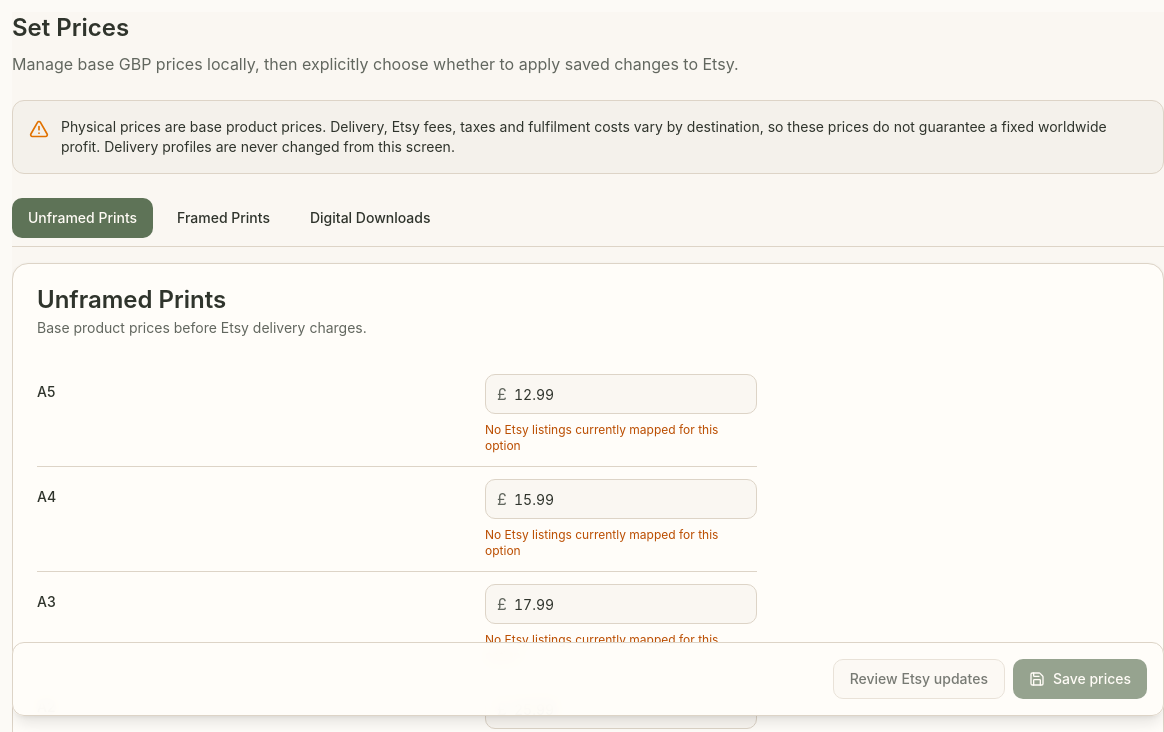
Scenario: Set Prices screen › starts on Unframed Prints and orders the three price tabs as requested
Expected: the heading "Unframed Prints" is shown, [37,285,226,314]
Expected: the field labelled "A5" holds "12.99", [485,374,757,414]
Click the tab "Framed Prints". click: (224,218)
box: [161,198,286,238]
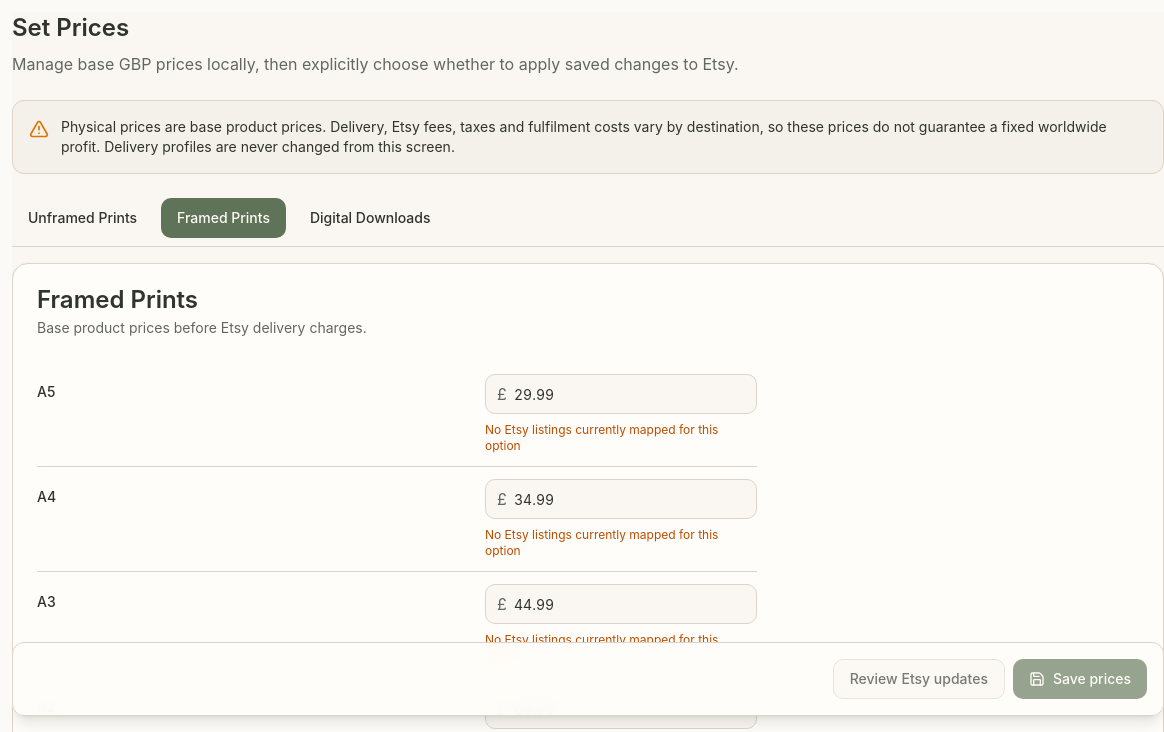
Expected: the heading "Framed Prints" is shown, [37,285,198,314]
Expected: the field labelled "A5" holds "29.99", [485,374,757,414]
Click the tab "Digital Downloads". click: (370,218)
box: [294,198,446,238]
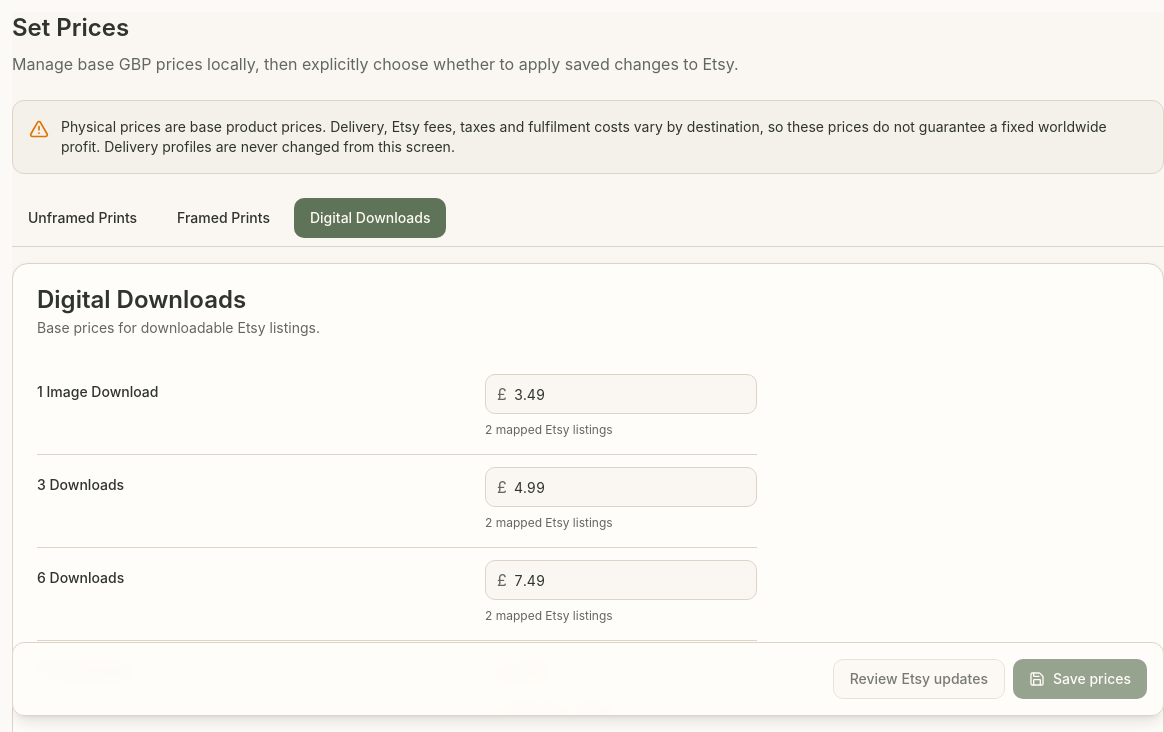
Expected: the button "Save prices" is disabled, [1013,659,1147,699]
Expected: the heading "Digital Downloads" is shown, [37,285,246,314]
Expected: the field labelled "1 Image Download" holds "3.49", [485,374,757,414]
